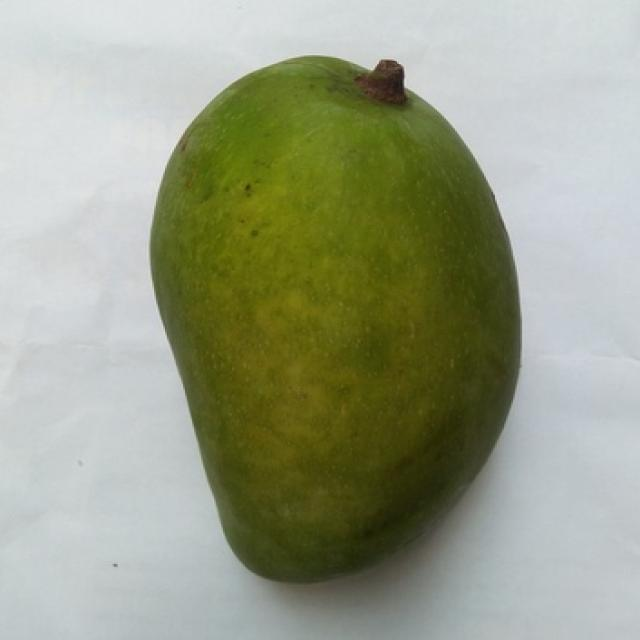Mango: (152, 57, 519, 580)
